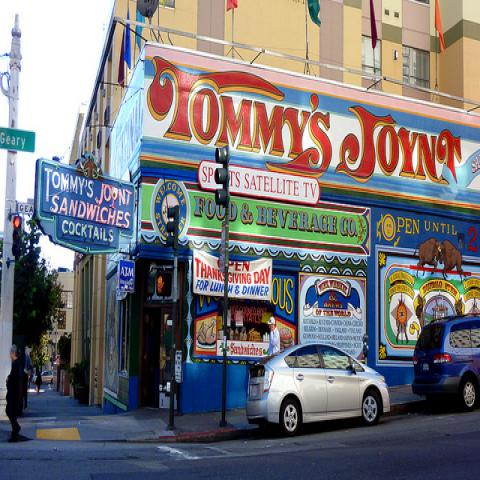car: (247, 341, 391, 439), (412, 313, 480, 413)
